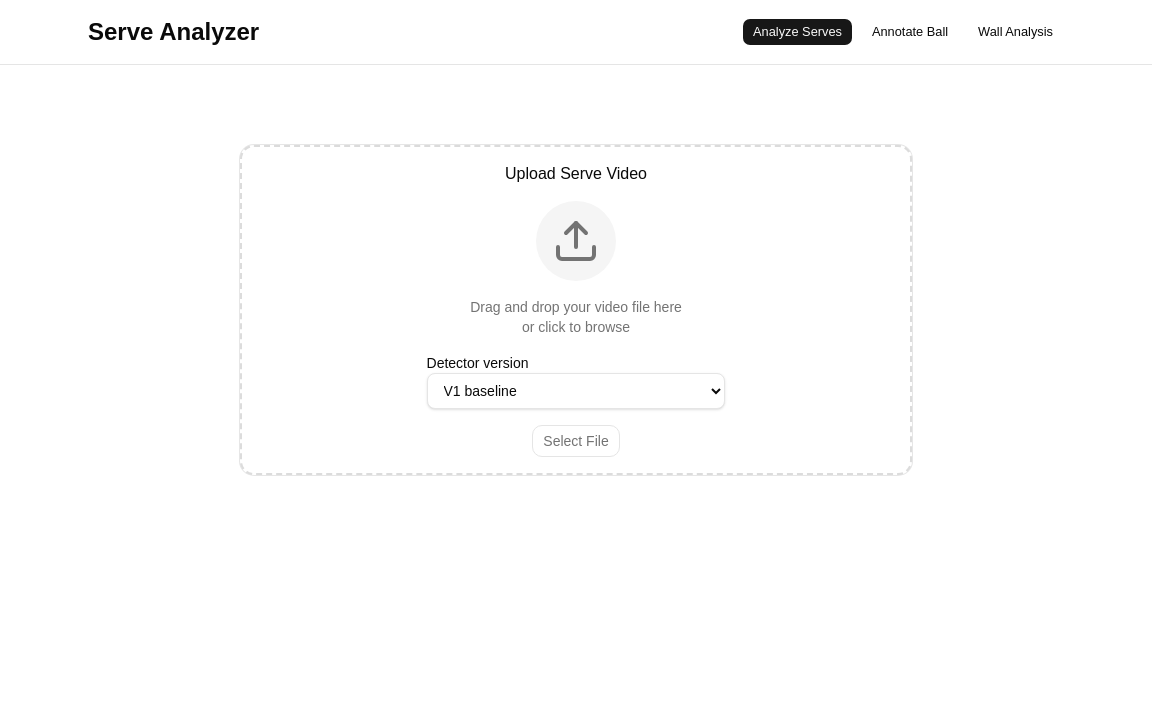
it: App › preserves existing analysis mode when switching back from wall mode
Switch to wall
Click the button "Wall Analysis" at (1016, 32), box top-left (967, 18), bottom-right (1064, 46)
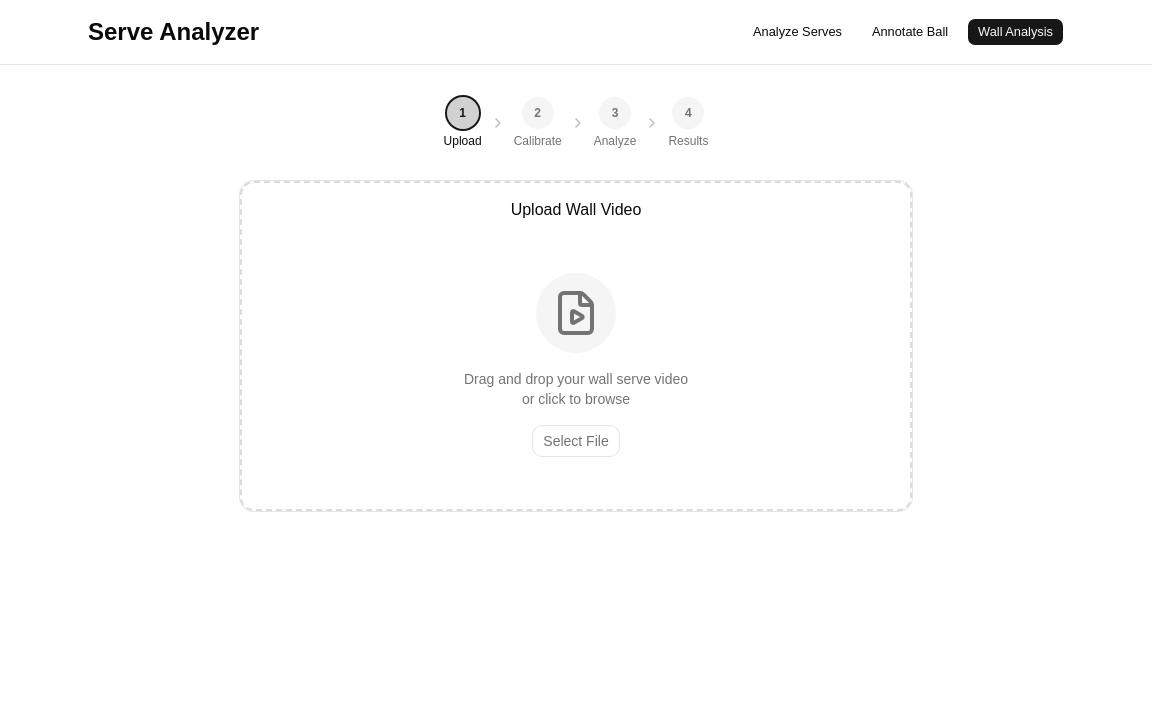
expect the text "Upload Wall Video" is shown: met, box top-left (511, 201), bottom-right (641, 218)
Switch back to analysis
Click the button "Analyze Serves" at (797, 32), box top-left (742, 18), bottom-right (853, 46)
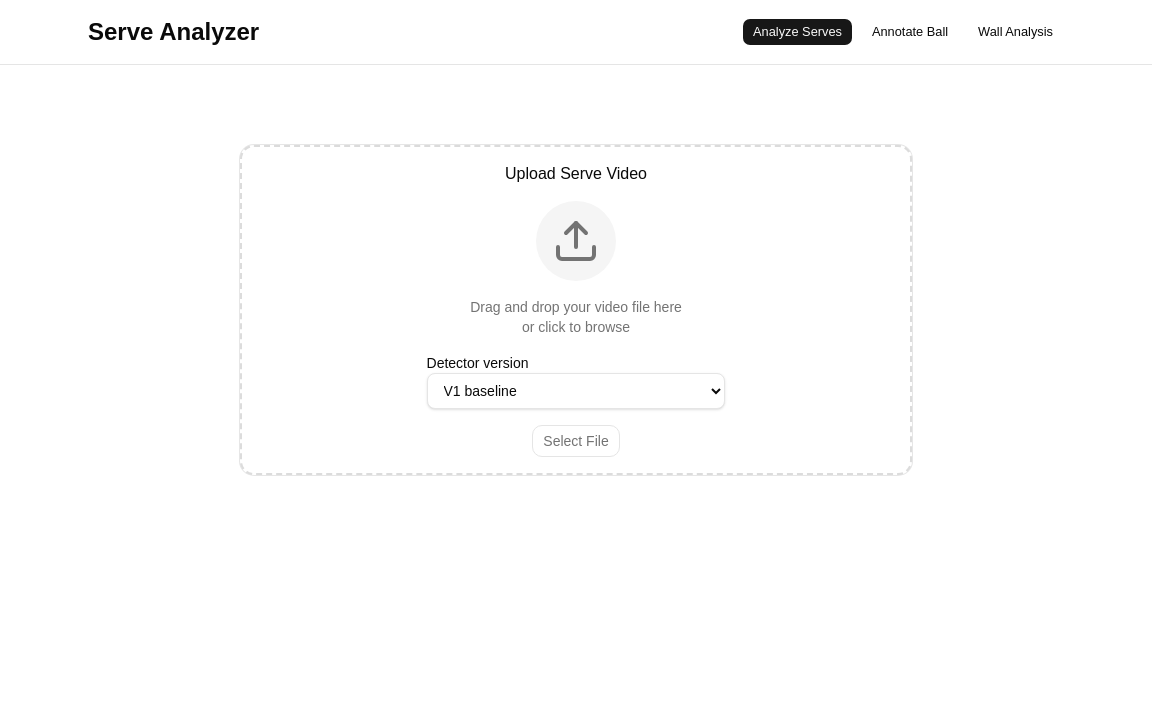
expect the text "Upload Serve Video" is shown: met, box top-left (505, 165), bottom-right (647, 182)
